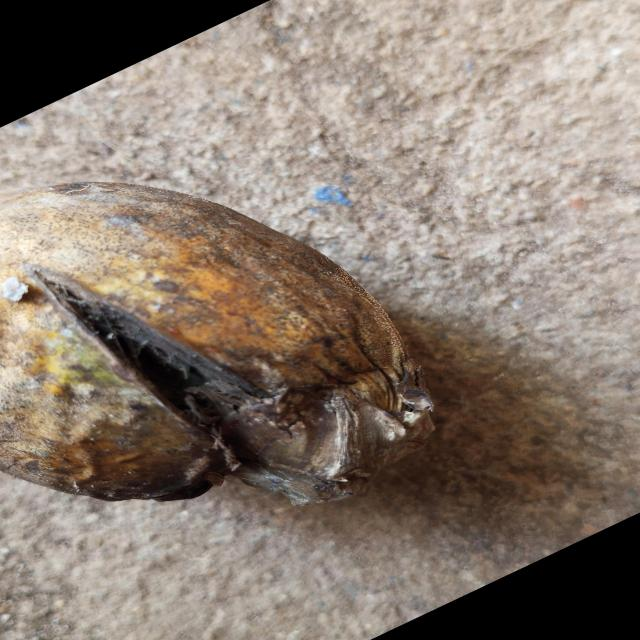damaged: (0, 182, 433, 504)
